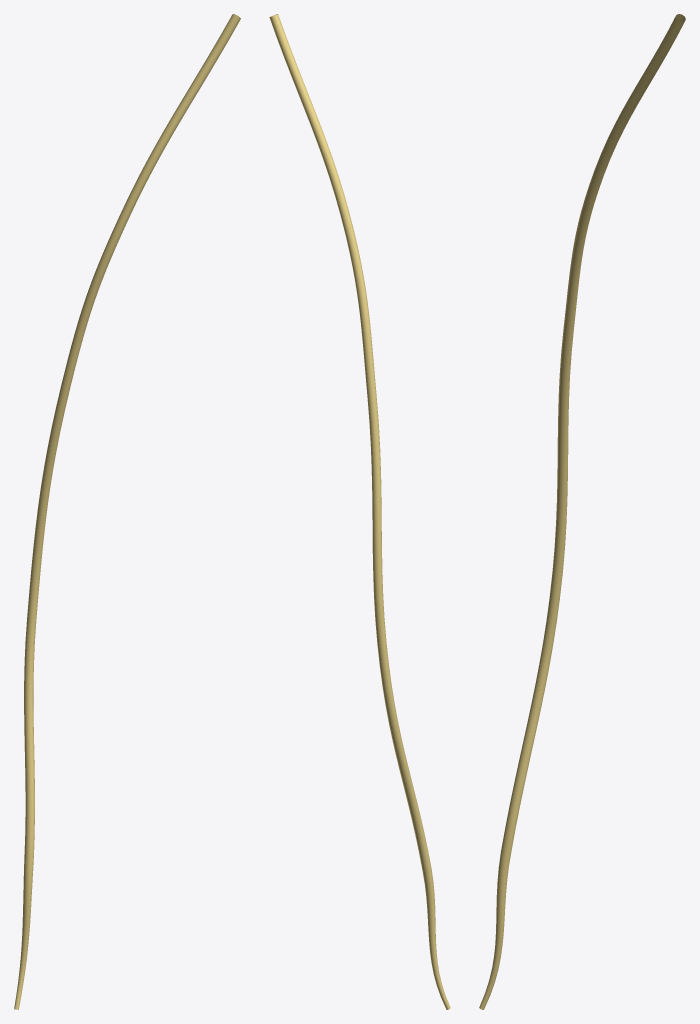
3 renders of one model, left to right at view 1: azimuth 30°, elevation 25°; view 2: azimuth 150°, elevation 25°; view 3: azimuth 330°, elevation 25°, orthographic. The views are drawn at different scales.
Visible parts, largest first — view 1: ZA_e54c267cf109f80c; view 2: ZA_e54c267cf109f80c; view 3: ZA_e54c267cf109f80c.
Part boxes in pixels (box(x1,y1,x2,y2)): ZA_e54c267cf109f80c: box(14, 14, 240, 1009); ZA_e54c267cf109f80c: box(269, 14, 450, 1009); ZA_e54c267cf109f80c: box(479, 14, 685, 1009).
Bounding box in the file's own units: 0.0491 × 0.2193 × 0.0209.
